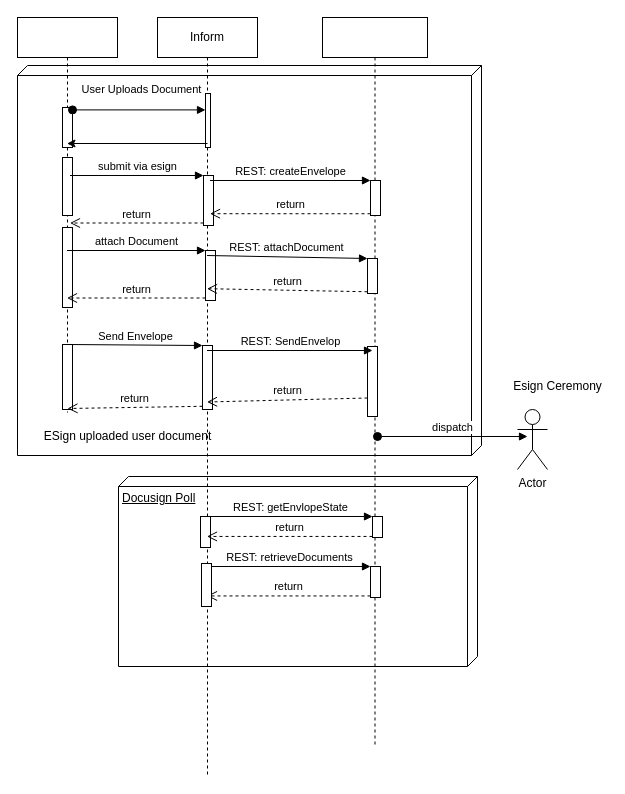
Image size: 625x794. Some labels were removed from this diagram. The centre of each missing label's shape, as x and y in pixels:
Browser: the point at 67,214
Docusign: the point at 375,381
